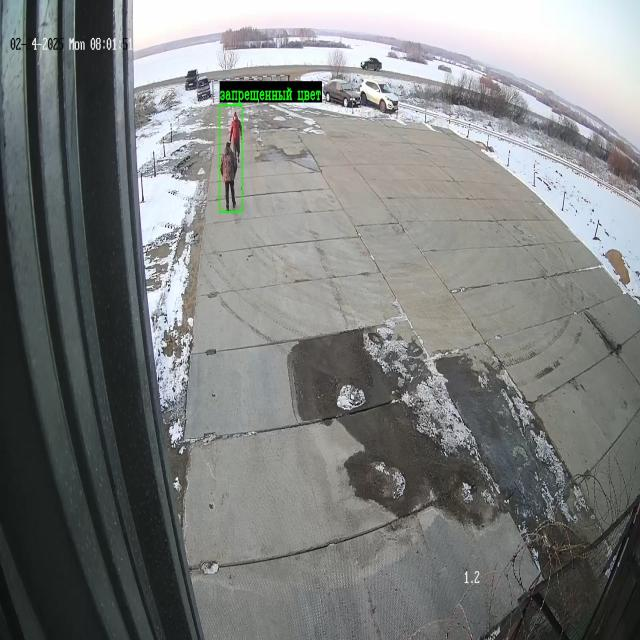Person: (221, 142, 237, 209)
Red uniform: (229, 111, 240, 162)
